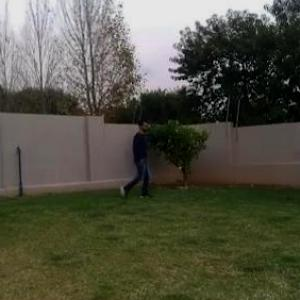follow: (130, 115, 152, 205)
